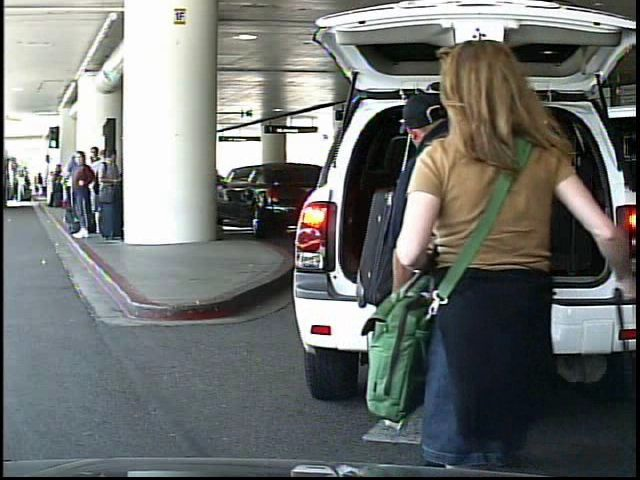person: (393, 54, 592, 470), (383, 79, 551, 460), (17, 174, 27, 205), (35, 172, 46, 199)
